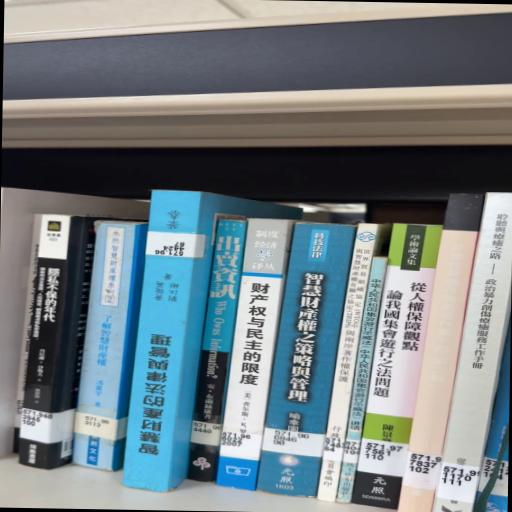reverse: (124, 191, 301, 493)
